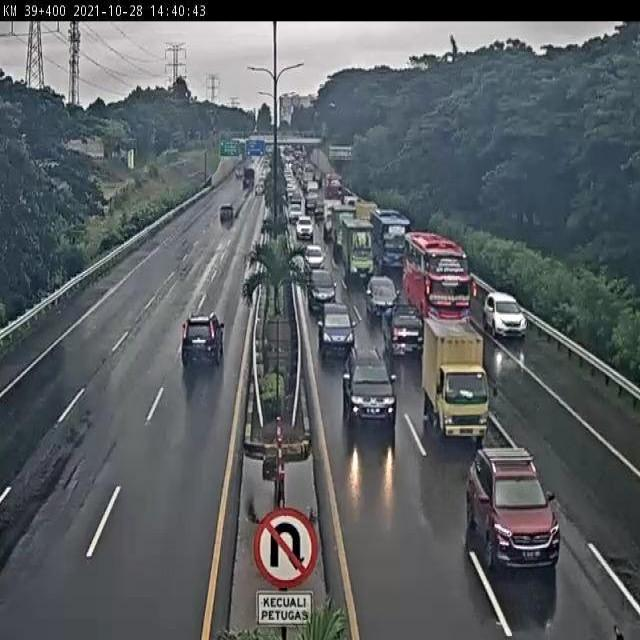bus-l-: (398, 230, 467, 334), (368, 206, 408, 266)
car: (465, 448, 563, 572), (341, 346, 398, 430), (180, 311, 225, 372), (480, 290, 530, 342), (377, 292, 420, 351), (315, 297, 354, 348), (306, 264, 337, 309), (364, 272, 396, 312), (301, 241, 325, 271)
truck-m-: (339, 216, 374, 280)
truck-s-: (421, 316, 490, 447)
